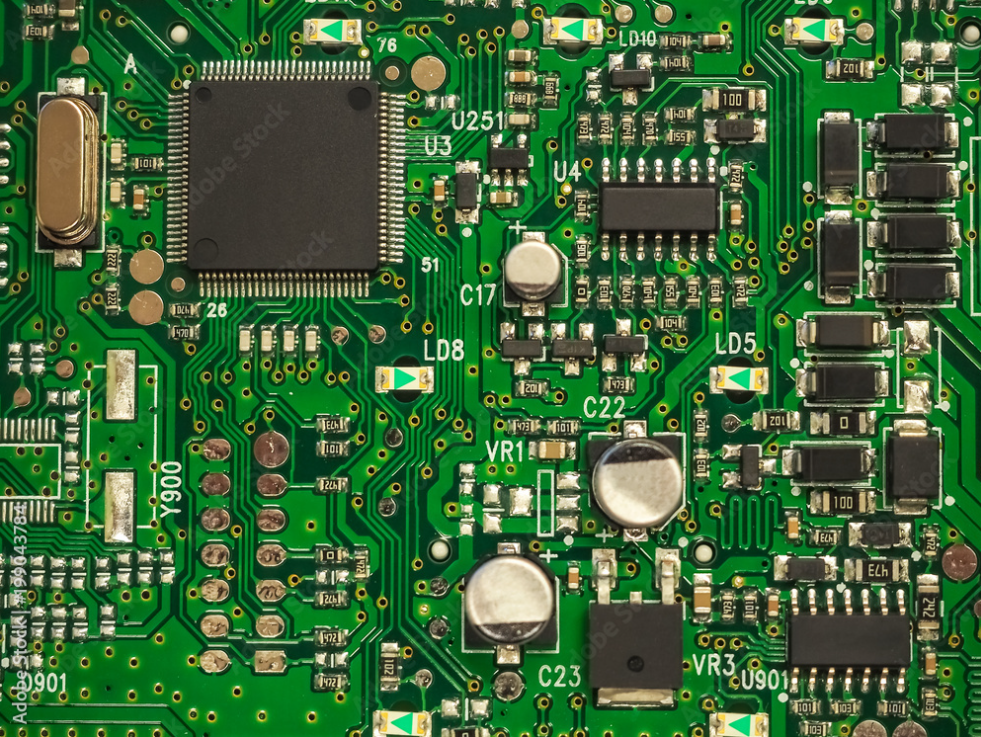kondensator: (462, 540, 558, 651), (588, 432, 688, 534), (506, 231, 568, 306), (531, 439, 576, 460), (57, 0, 87, 29), (692, 579, 712, 617), (131, 185, 149, 213), (107, 176, 123, 207), (784, 514, 801, 541), (108, 140, 125, 166), (728, 201, 743, 229), (765, 593, 781, 618), (509, 48, 537, 62), (701, 34, 729, 48), (509, 69, 536, 82), (491, 191, 517, 204), (568, 566, 581, 591), (431, 177, 444, 199)
